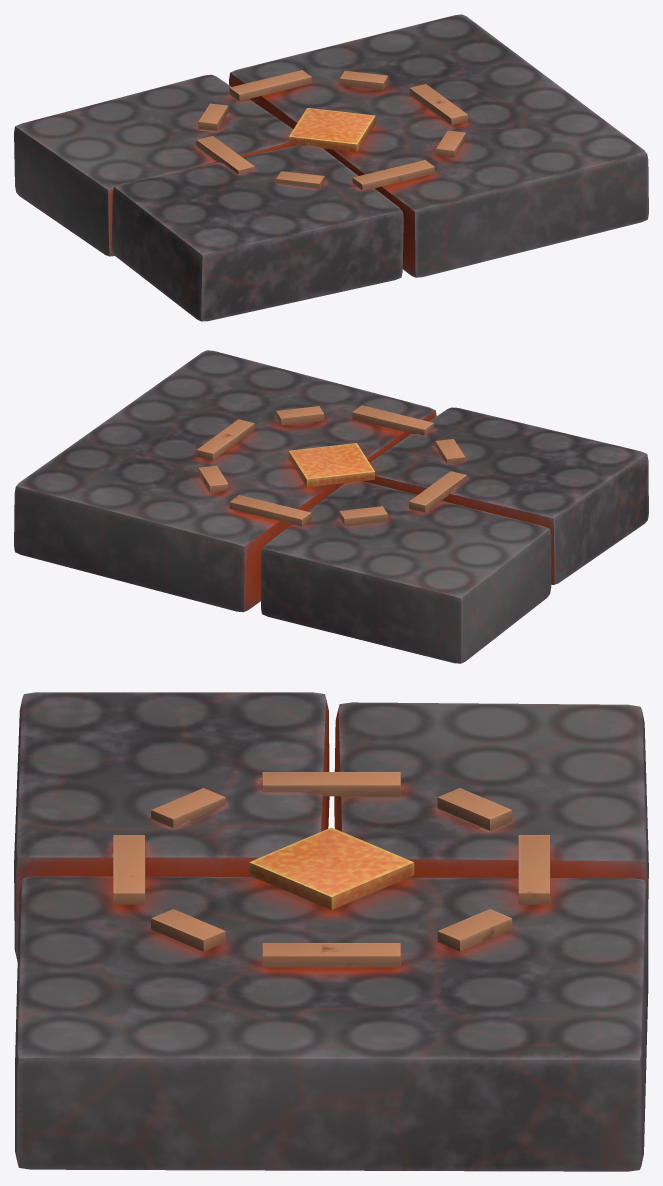
Rendered from Volcan_Dalle.fbx.
3 renders of one model, top to bottom at view 1: azimuth 30°, elevation 25°; view 2: azimuth 150°, elevation 25°; view 3: azimuth 270°, elevation 25°, orthographic. The views are drawn at different scales.
Visible parts, largest first — view 1: Volcan_Dalle; view 2: Volcan_Dalle; view 3: Volcan_Dalle.
Part boxes in pixels (bbox=[...]): Volcan_Dalle: bbox=[14, 14, 648, 321]; Volcan_Dalle: bbox=[14, 350, 648, 663]; Volcan_Dalle: bbox=[14, 692, 648, 1171].
Bounding box in the file's own units: 806 × 141 × 596.
1 material, 1 textured.
